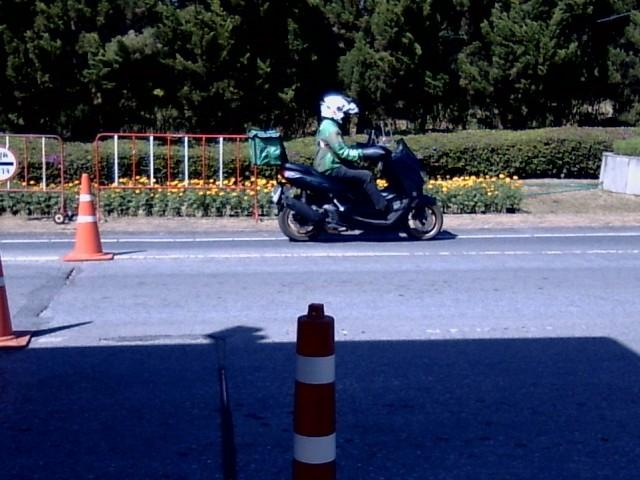helmet: (321, 91, 358, 122)
motor: (272, 134, 441, 240)
person: (314, 93, 389, 211)
